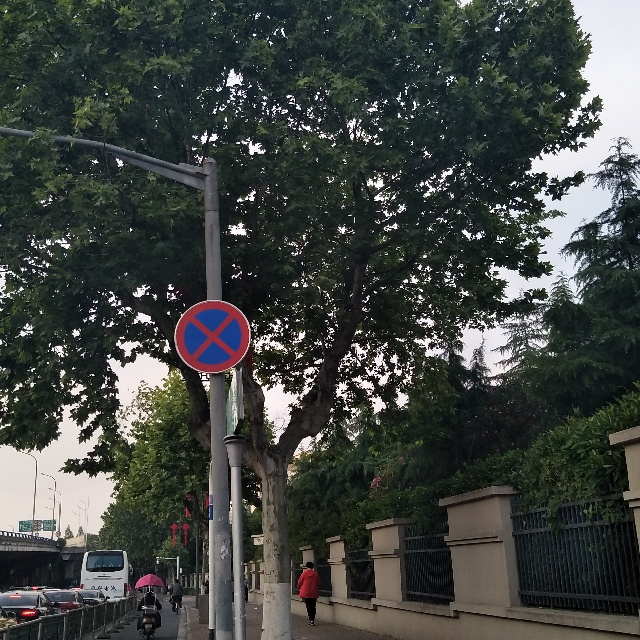stop: (174, 298, 252, 372)
